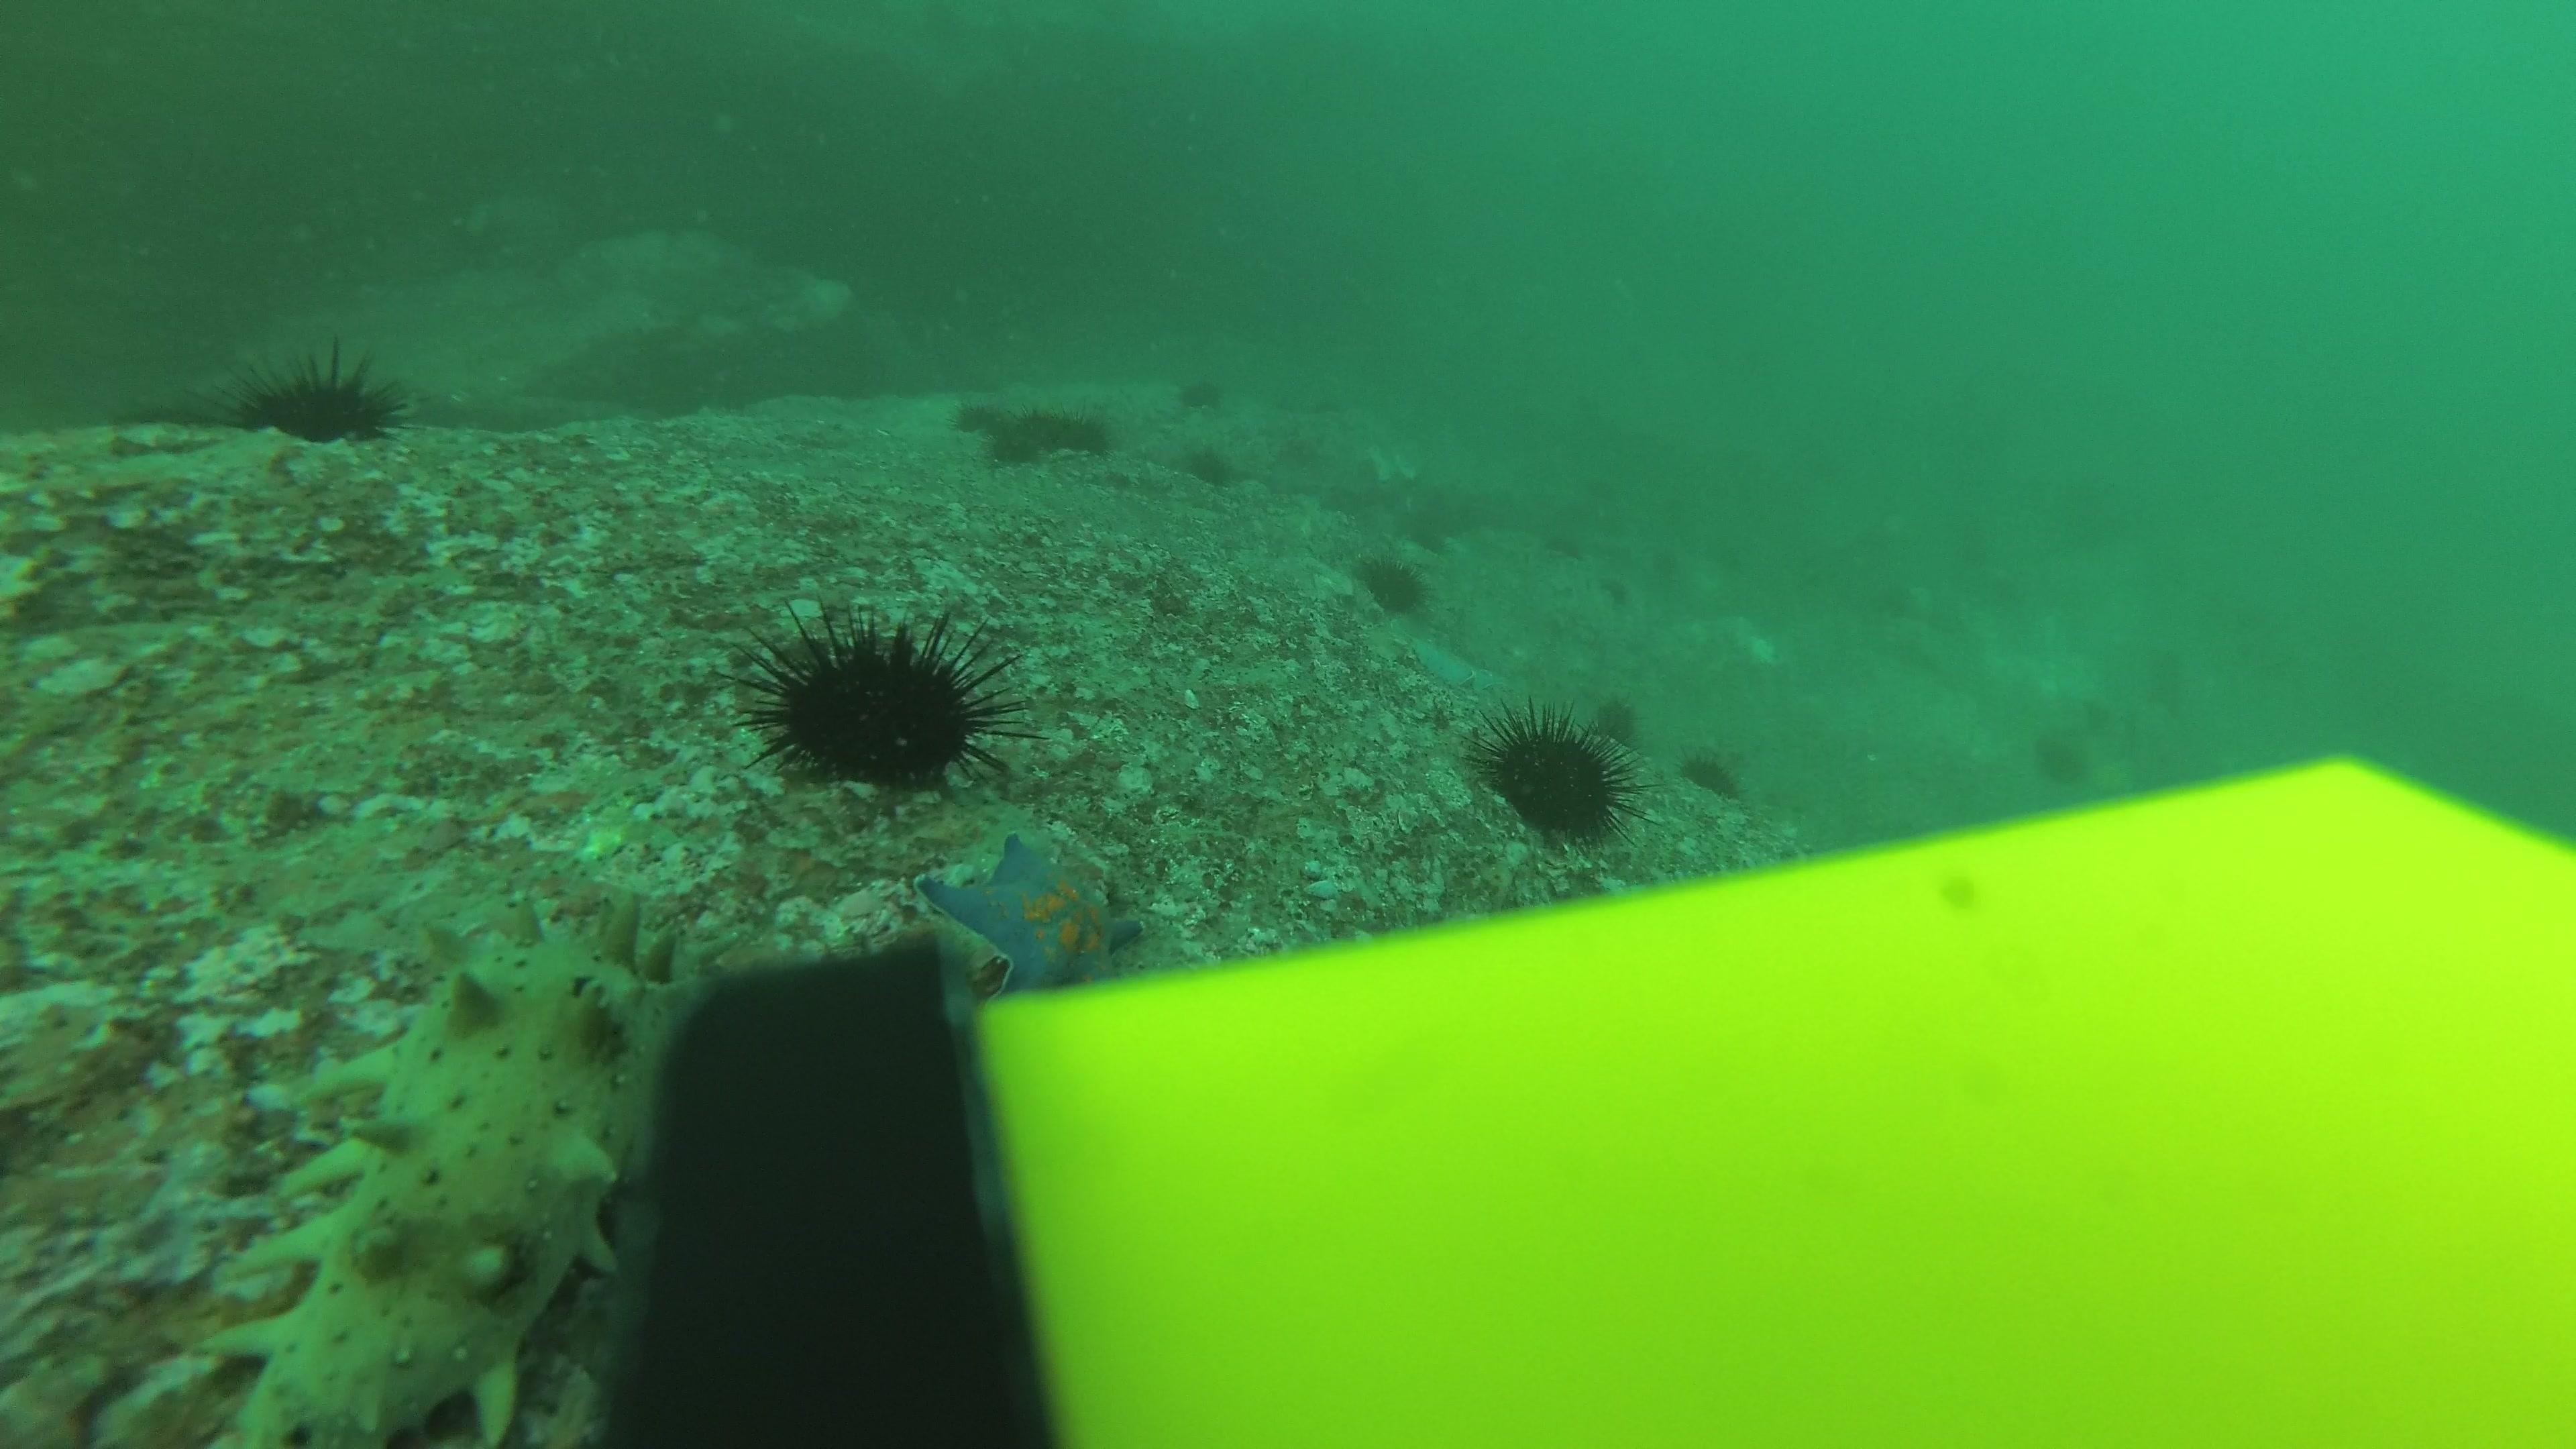echinus: (738, 598, 1016, 796), (1483, 704, 1635, 840), (239, 345, 405, 449), (1355, 547, 1431, 616), (2028, 725, 2097, 789), (1679, 743, 1744, 800), (948, 391, 1021, 435), (1003, 407, 1076, 449), (994, 425, 1056, 469), (1182, 441, 1238, 488), (1591, 571, 1647, 616), (1631, 540, 1688, 584), (1868, 575, 1925, 619), (1587, 695, 1645, 738), (1523, 520, 1580, 563), (1392, 502, 1449, 545), (1058, 412, 1113, 455), (1177, 372, 1226, 414)
holothurian: (239, 913, 655, 1442)
starfish: (916, 824, 1150, 998), (1399, 630, 1499, 692)
